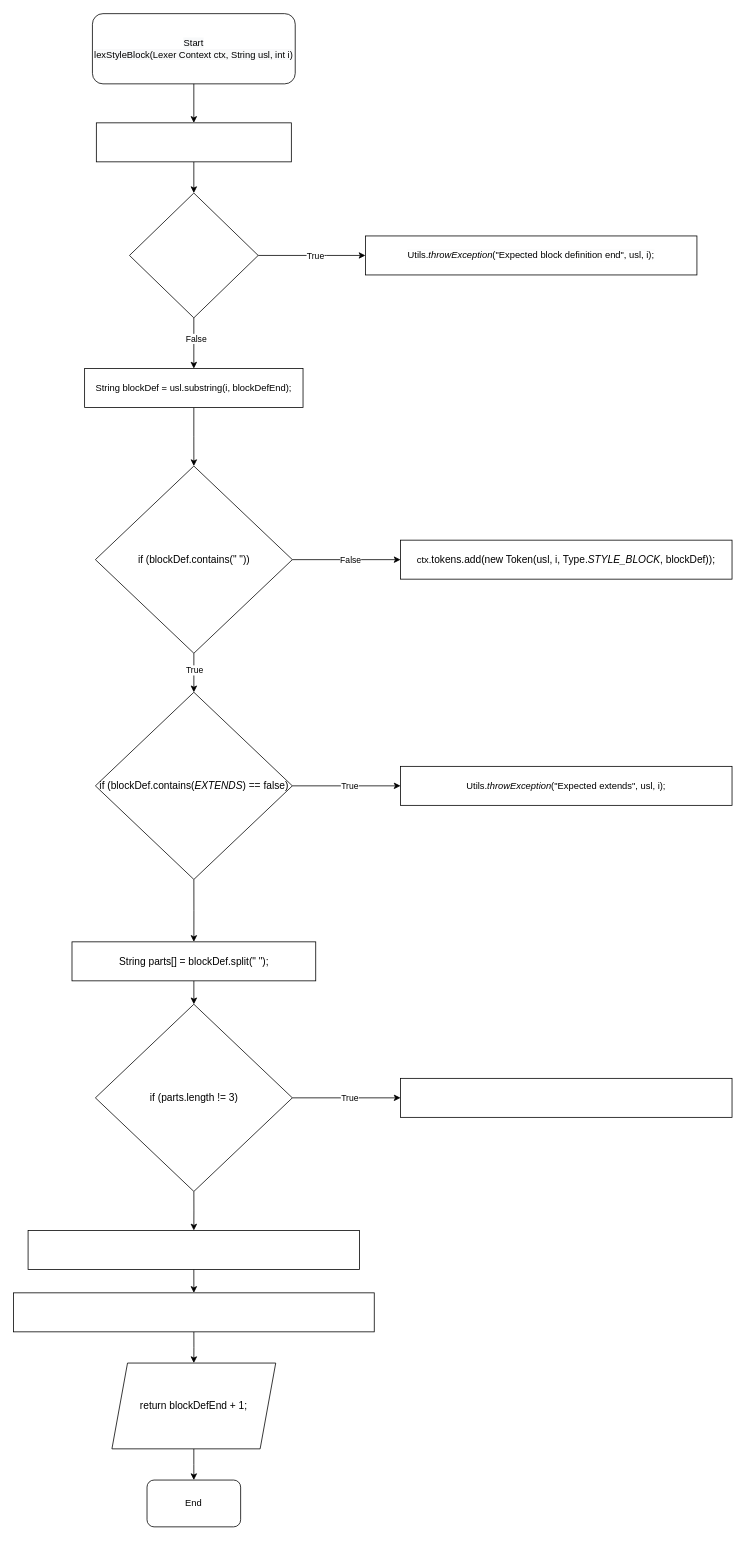
The diagram is 746 pixels wide and 1541 high, and some of its shapes have lost their labels. The shapes that lost their labels are listed below. From the top down, each one's centre as x and y in pixels, then its label:
[193,142]: int blockDefEnd = usl.indexOf(":", i);
[193,255]: if (blockDefEnd == -1)
[566,1097]: Utils. throwException ("Expected extends format", usl, i);
[193,1249]: ctx.tokens.add(new Token(usl, i, Type. STYLE_BLOCK , parts[0]));
[193,1312]: ctx. tokens .add( new Token(usl , i , Type. STYLE_BLOCK_EXTENDS , parts[ 2 ])) ;
